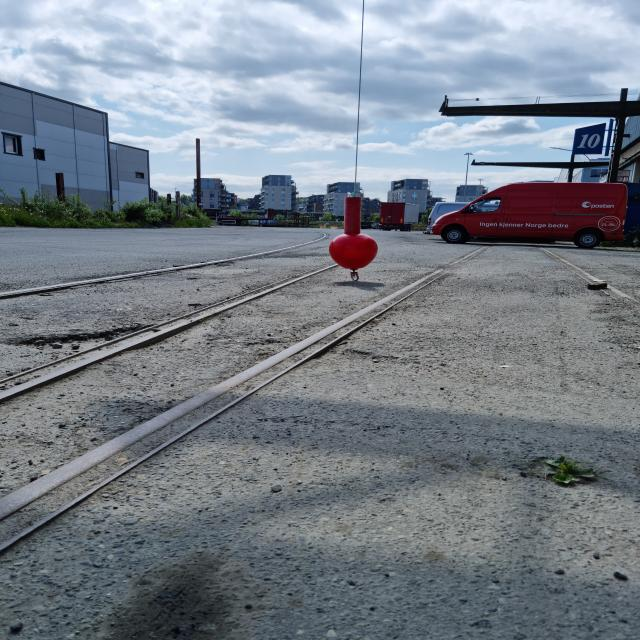red: (329, 198, 378, 270)
